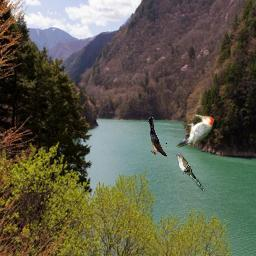Cuckoo: (174, 153, 205, 193)
Swallow: (148, 117, 167, 157)
Woodpecker: (174, 113, 214, 149)
